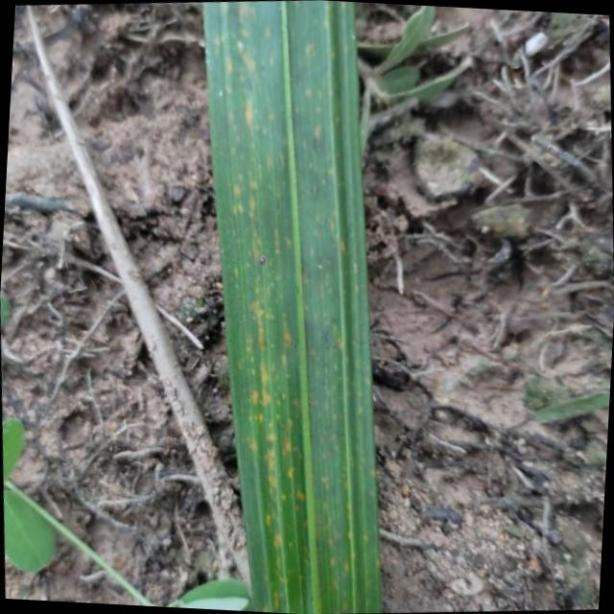Kalium: (203, 0, 382, 614)
